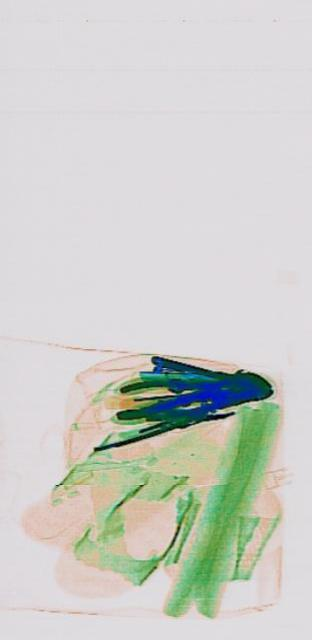Pliers: (148, 354, 271, 424), (114, 368, 253, 420)
